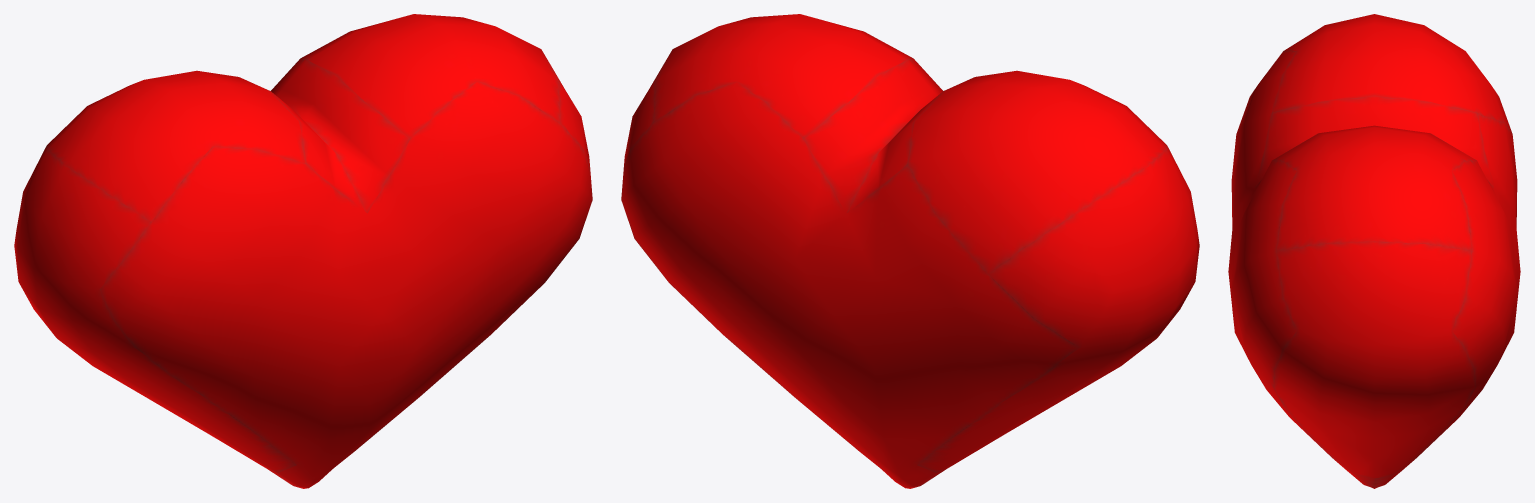
File: heart_hi.obj
The picture shows the model from 3 angles, left to right: view 1: azimuth 30°, elevation 25°; view 2: azimuth 150°, elevation 25°; view 3: azimuth 270°, elevation 25°; orthographic projection. The views are drawn at different scales.
Parts seen in each view (by area): view 1: pCube2; view 2: pCube2; view 3: pCube2.
Boxes of the visible parts, x1,y1,x2,y2 form: pCube2: (14,14,592,488); pCube2: (621,14,1199,488); pCube2: (1228,14,1520,488).
Size of the model in its own units: 1.91 by 1.46 by 0.96.
1 material, 1 textured.
